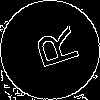R: (25, 25, 80, 74)
